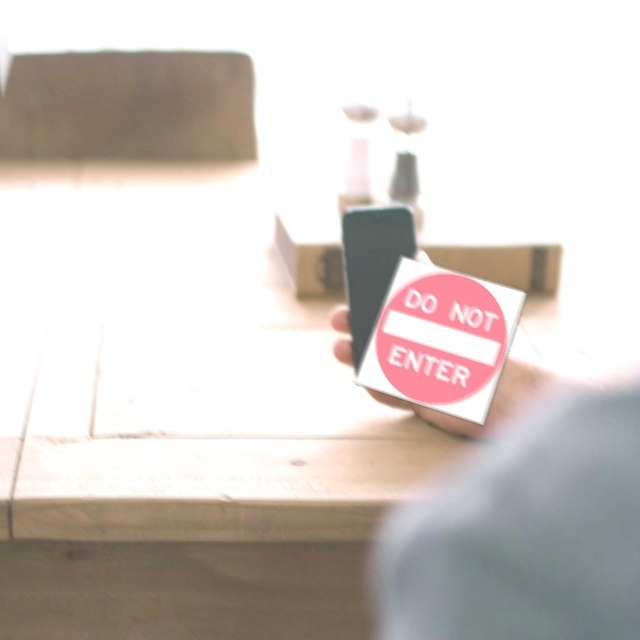DO_NOT_ENTER: (351, 253, 525, 423)
